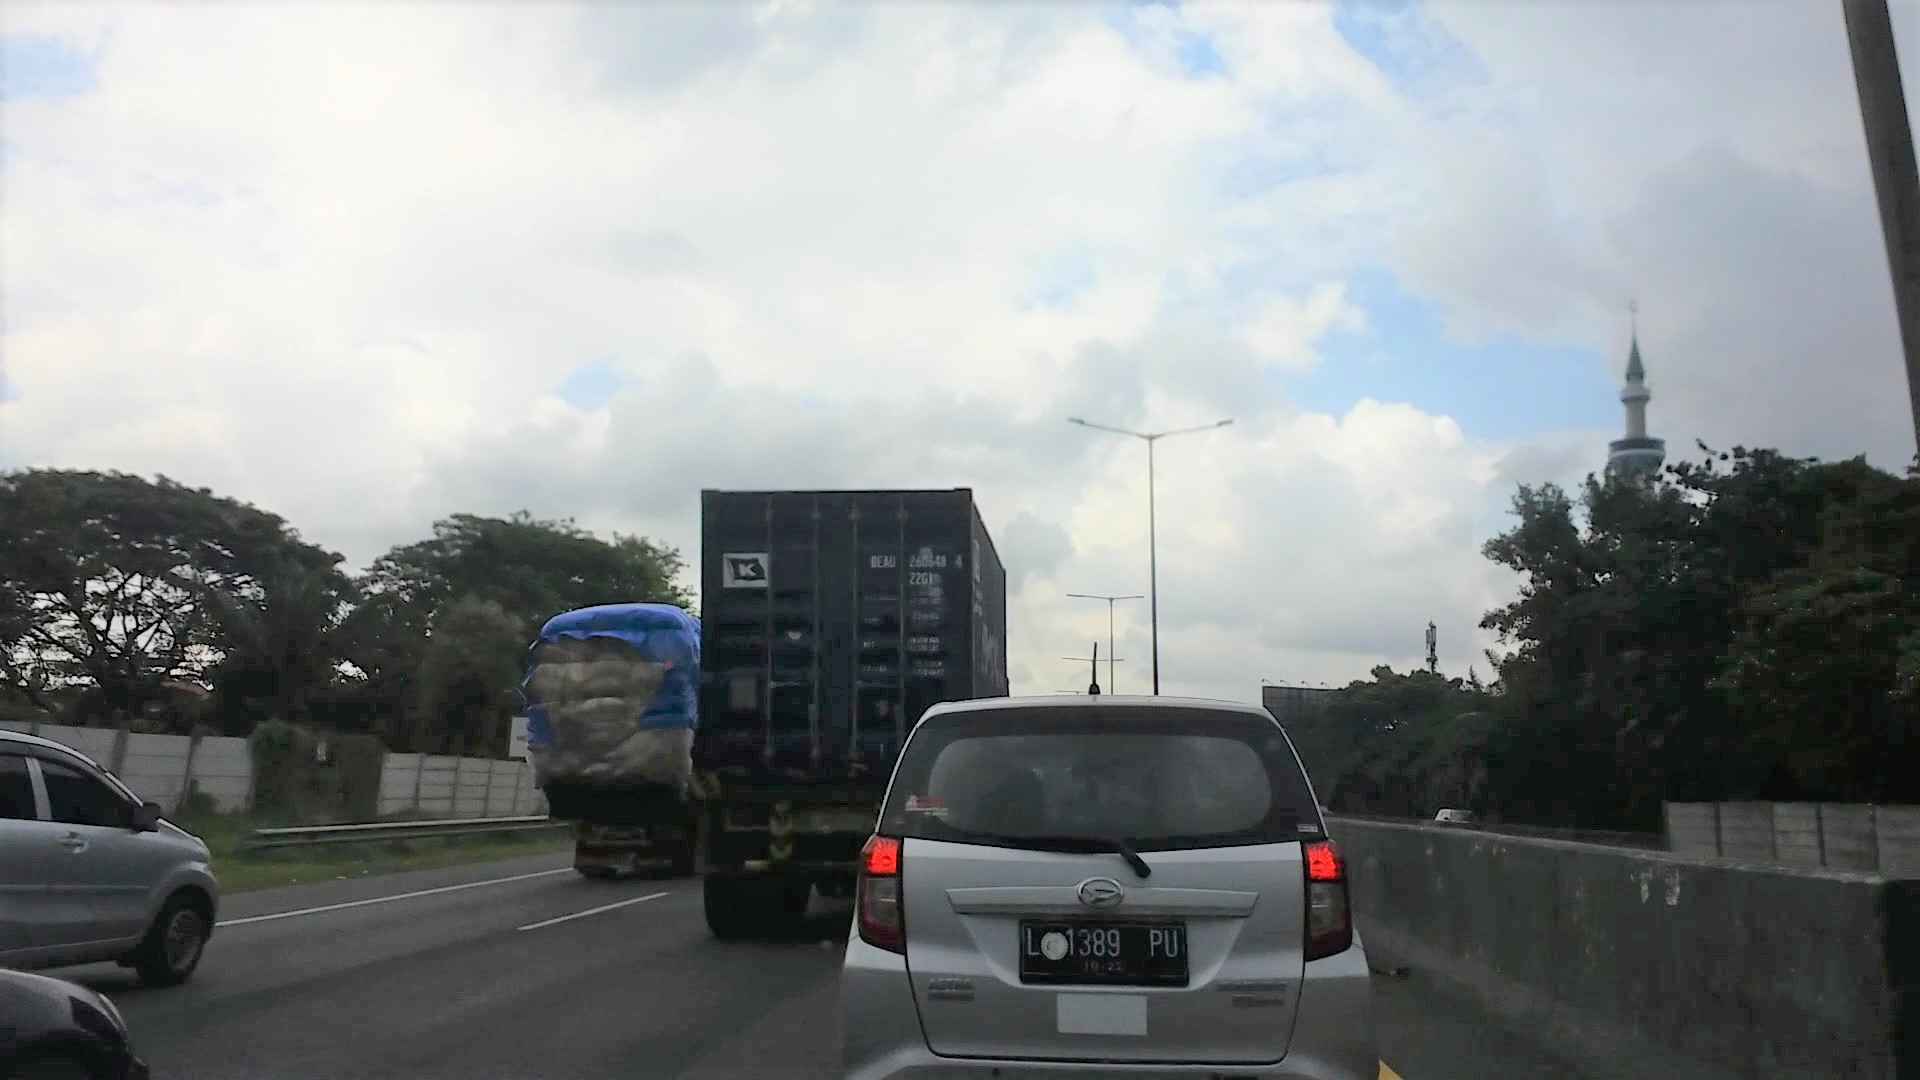plate_positive: (1018, 918, 1189, 988)
